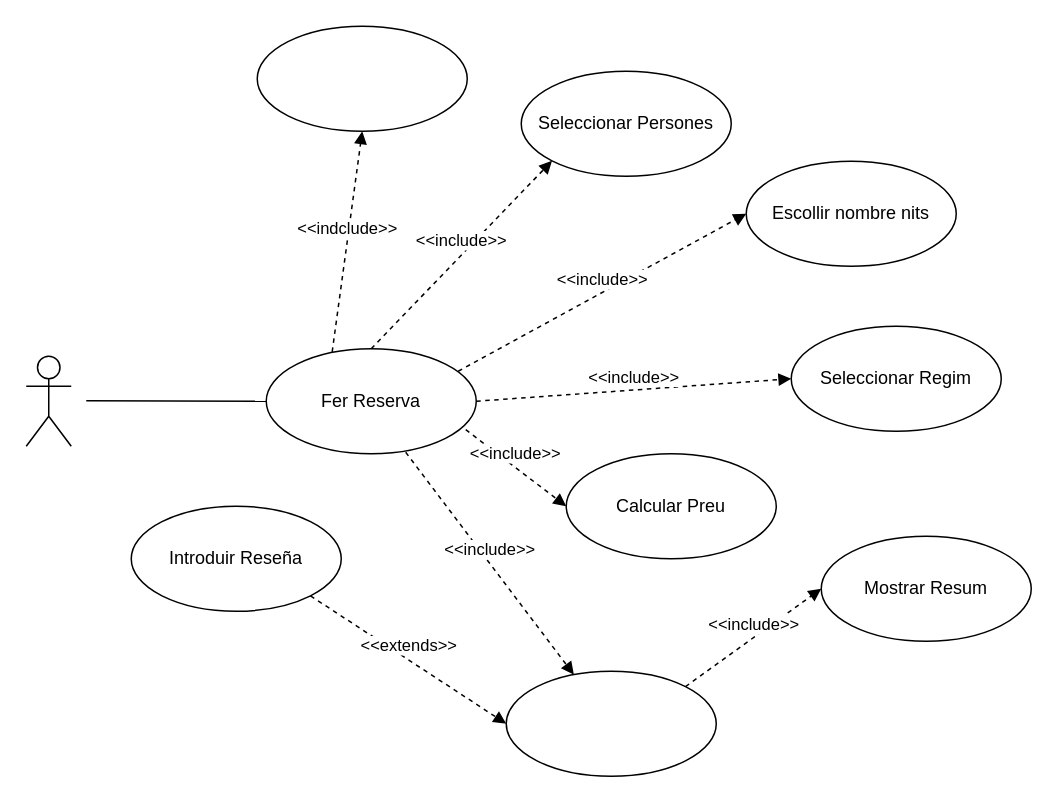
Some shapes in this 1058 by 803 pixel diagram are drawn without their labels. Here are the shapes that lost their labels. From the top down, the centre of each, then its label:
At (x=361, y=78): "Introduir Dades".
At (x=48, y=400): "Client".
At (x=610, y=723): "Confirmar".
